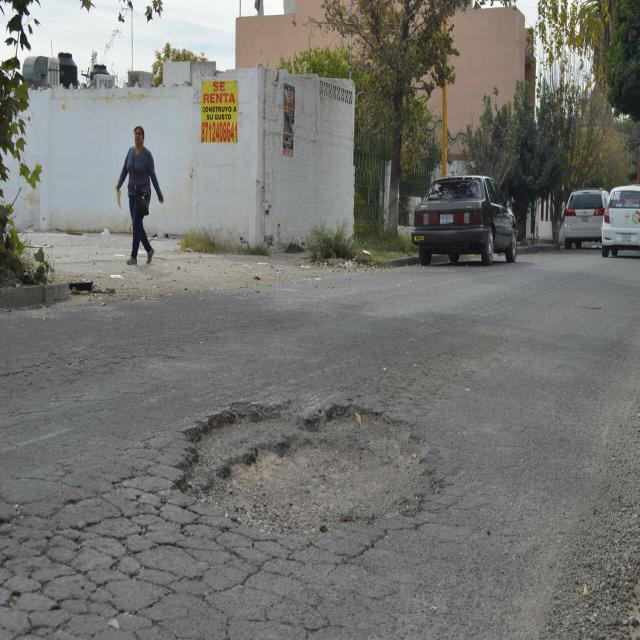Pothole: (170, 361, 492, 603)
